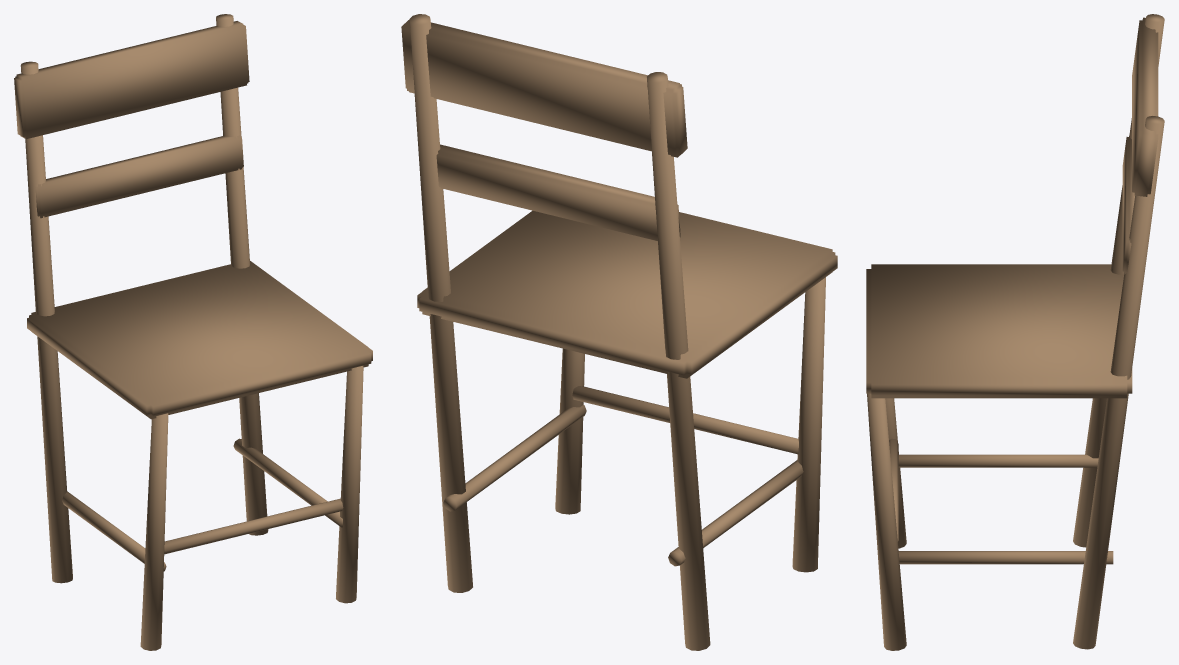
File: wooden_chair.glb
3 renders of one model, left to right at view 1: azimuth 30°, elevation 25°; view 2: azimuth 150°, elevation 25°; view 3: azimuth 270°, elevation 25°, orthographic. The views are drawn at different scales.
Parts seen in each view (by area): view 1: Seat, TopRail, BackStile_-0.2, MidRail, BackStile_0.2, FrontLeg_-0.2, FrontLeg_0.2, StretcherF, StretcherR, StretcherL; view 2: Seat, TopRail, BackStile_-0.2, BackStile_0.2, MidRail, FrontLeg_-0.2, FrontLeg_0.2, StretcherF, StretcherR, StretcherL; view 3: Seat, BackStile_0.2, FrontLeg_0.2, TopRail, BackStile_-0.2, StretcherL, StretcherR, MidRail, FrontLeg_-0.2, StretcherF.
Boxes of the visible parts, <box> form: Seat: <box>27,261,372,419</box>; TopRail: <box>14,21,249,139</box>; BackStile_-0.2: <box>20,61,72,583</box>; MidRail: <box>35,135,243,218</box>; BackStile_0.2: <box>216,14,268,535</box>; FrontLeg_-0.2: <box>140,413,168,650</box>; FrontLeg_0.2: <box>336,366,363,603</box>; StretcherF: <box>164,498,343,554</box>; StretcherR: <box>233,438,343,527</box>; StretcherL: <box>62,491,166,571</box>; Seat: <box>417,210,837,378</box>; TopRail: <box>401,19,687,157</box>; BackStile_-0.2: <box>647,72,710,650</box>; BackStile_0.2: <box>409,14,472,592</box>; MidRail: <box>436,144,680,240</box>; FrontLeg_-0.2: <box>792,277,825,572</box>; FrontLeg_0.2: <box>555,348,584,514</box>; StretcherF: <box>572,386,798,454</box>; StretcherR: <box>443,405,586,511</box>; StretcherL: <box>668,460,803,566</box>; Seat: <box>866,264,1132,398</box>; BackStile_0.2: <box>1073,116,1164,649</box>; FrontLeg_0.2: <box>867,393,906,650</box>; TopRail: <box>1132,17,1158,196</box>; BackStile_-0.2: <box>1073,14,1164,547</box>; StretcherL: <box>898,454,1098,467</box>; StretcherR: <box>898,551,1113,564</box>; MidRail: <box>1122,136,1134,273</box>; FrontLeg_-0.2: <box>885,398,906,548</box>; StretcherF: <box>889,438,898,541</box>.
Bounding box in the file's own units: 0.44 × 0.9191 × 0.471.
